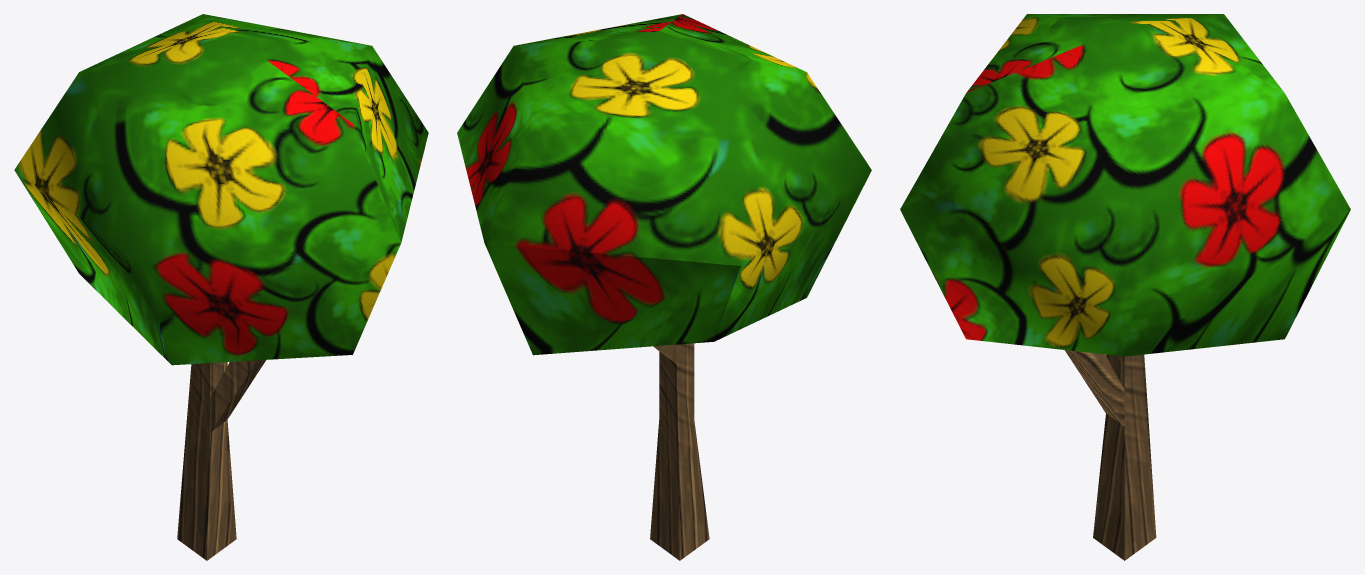
File: SquarePlant.fbx
The picture shows the model from 3 angles, left to right: view 1: azimuth 30°, elevation 25°; view 2: azimuth 150°, elevation 25°; view 3: azimuth 270°, elevation 25°; orthographic projection. The views are drawn at different scales.
Parts seen in each view (by area): view 1: TODOS:polySurface13; view 2: TODOS:polySurface13; view 3: TODOS:polySurface13.
Boxes of the visible parts, left/top/right/bottom form: TODOS:polySurface13: left=14, top=14, right=428, bottom=560; TODOS:polySurface13: left=457, top=14, right=871, bottom=560; TODOS:polySurface13: left=900, top=14, right=1350, bottom=560.
Size of the model in its own units: 2.79 by 3.84 by 2.94.
